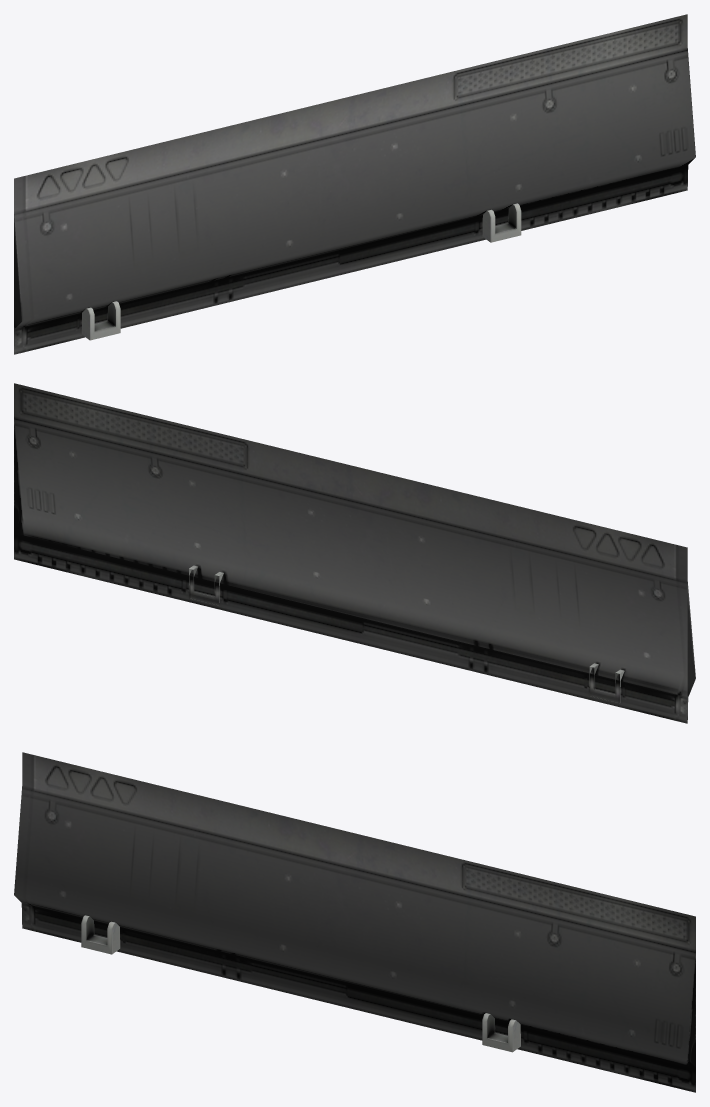
File: Panel_B_05x2_3_L2.FBX
The picture shows the model from 3 angles, top to bottom: view 1: azimuth 30°, elevation 25°; view 2: azimuth 150°, elevation 25°; view 3: azimuth 330°, elevation 25°; orthographic projection.
Parts seen in each view (by area): view 1: Panel_B_05x2_3_L2; view 2: Panel_B_05x2_3_L2; view 3: Panel_B_05x2_3_L2.
Boxes of the visible parts, x1,y1,x2,y2 form: Panel_B_05x2_3_L2: (14,14,695,354); Panel_B_05x2_3_L2: (14,383,695,723); Panel_B_05x2_3_L2: (14,752,695,1092).
Bounding box in the file's own units: 200 × 50 × 4.32.
